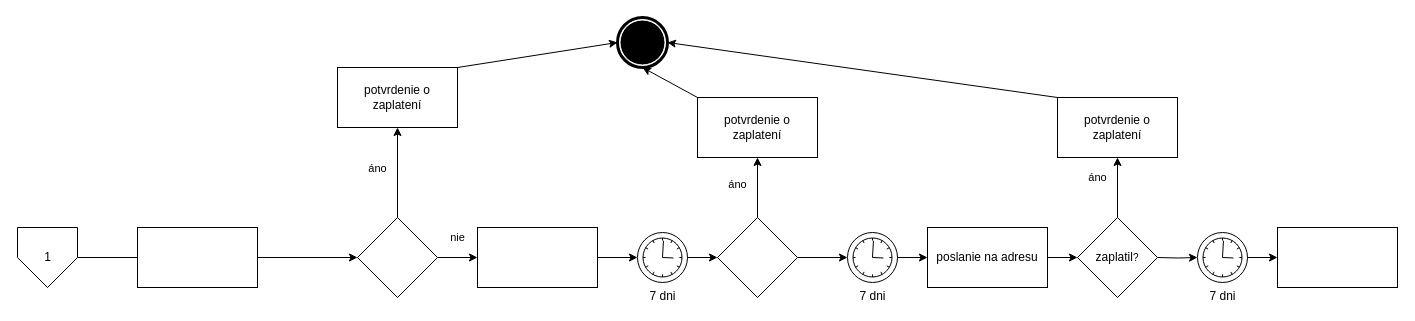
Some shapes in this 1415 by 321 pixel diagram are drawn without their labels. Here are the shapes that lost their labels. From the top down, the centre of each, then its label:
At (x=197, y=257): "udelenie sankcie".
At (x=397, y=257): "je zákazník na mieste?".
At (x=537, y=257): "zaslanie emailu, s infom na zaplatenie".
At (x=757, y=257): "zaplatil?".
At (x=1337, y=257): "právnik".
